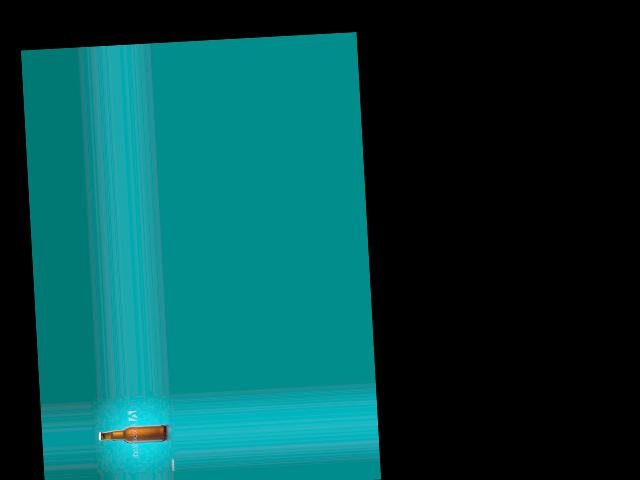beer: (98, 424, 166, 445)
